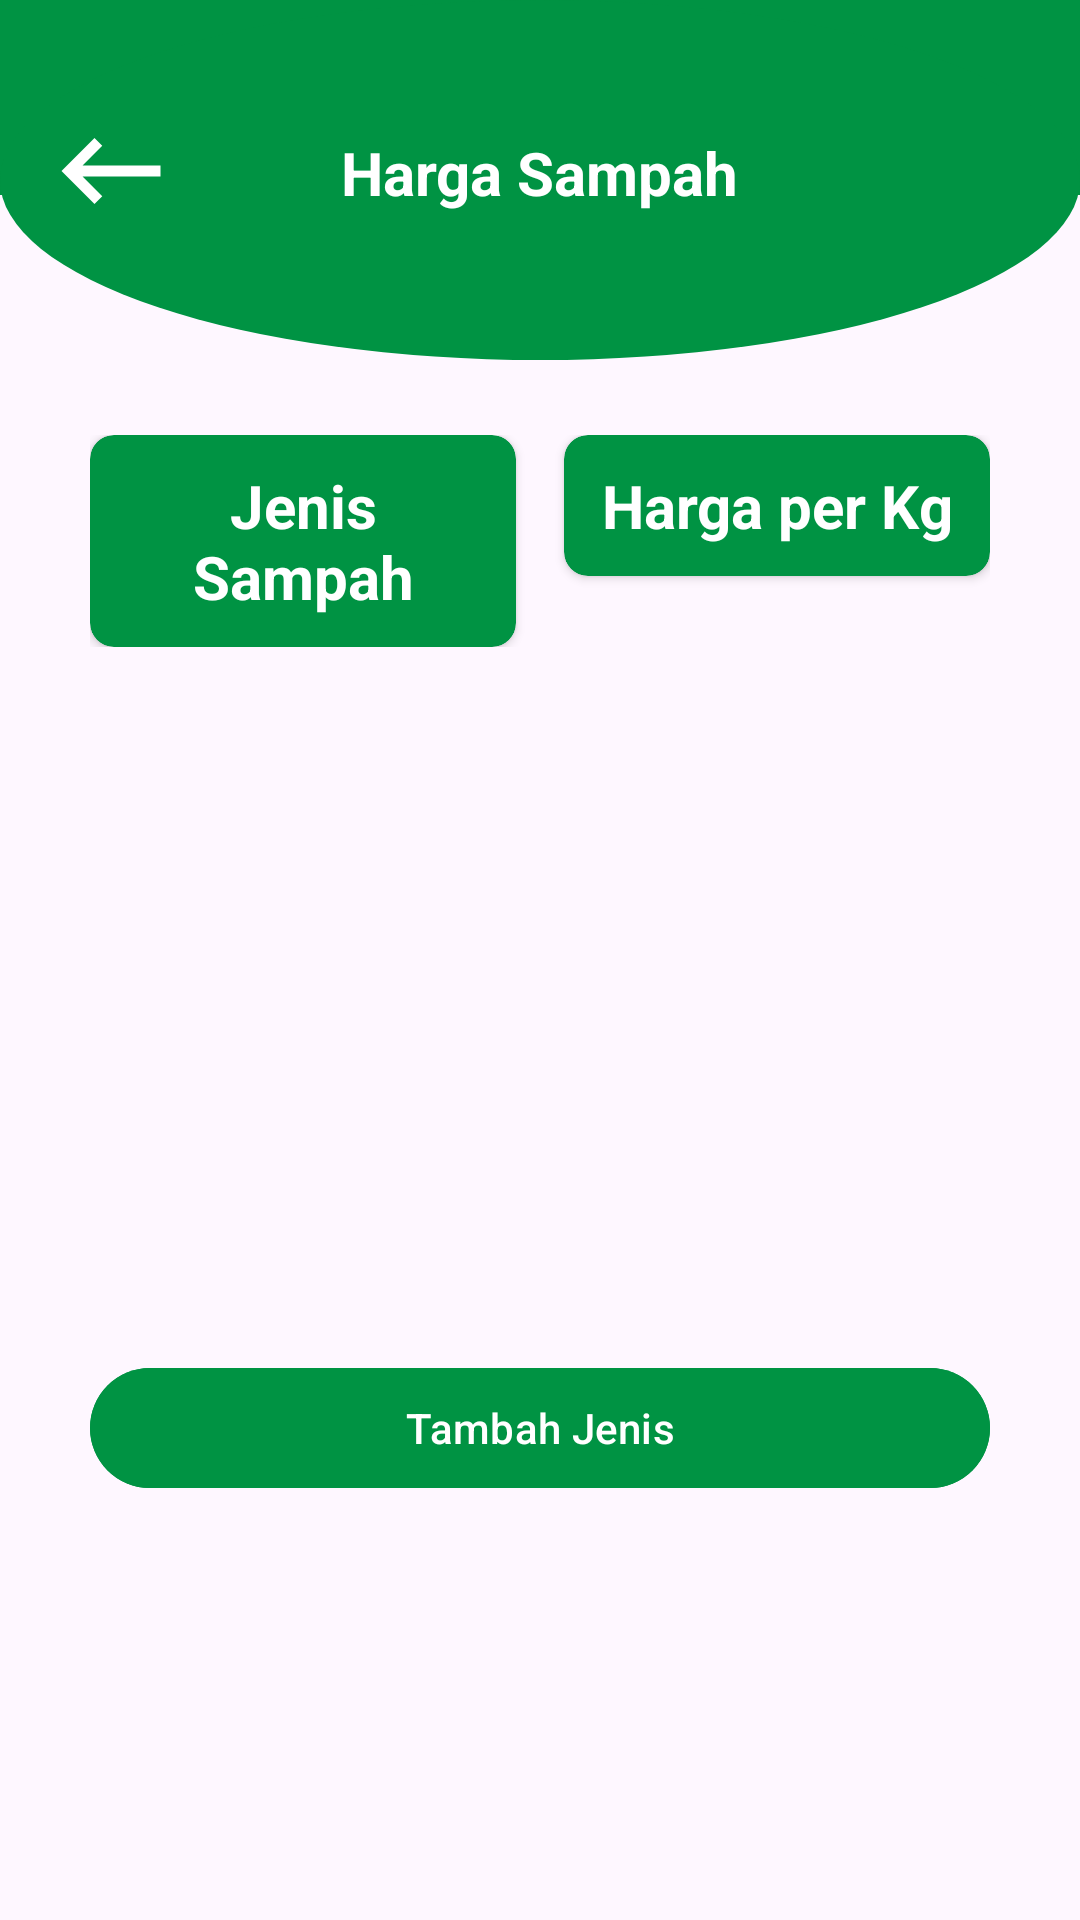

Icons on this 1080px x 1920px Android screen, each with its box as (x1, y1, x2, y2):
keyboard backspace: (61, 138, 161, 204)
